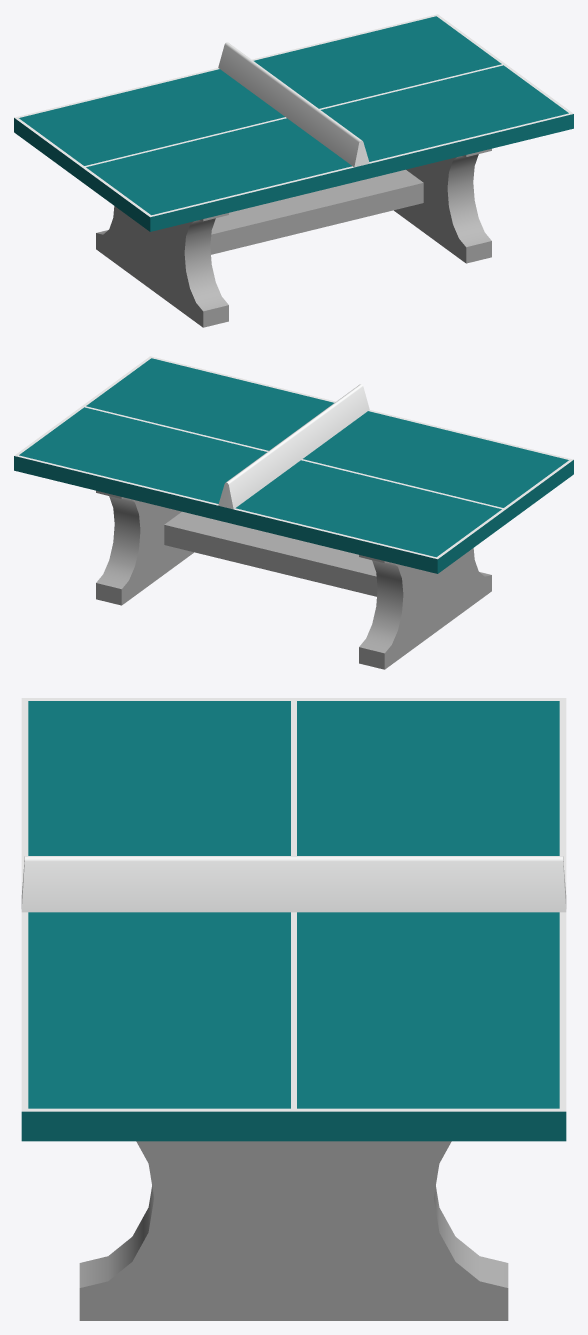
Rendered from 7f78bafc-0549-483e-8caa-5acf76d795af.glb.
3 views of the same model, one above another, from view 1: azimuth 30°, elevation 25°; view 2: azimuth 150°, elevation 25°; view 3: azimuth 270°, elevation 25° (orthographic). The views are drawn at different scales.
Parts seen in each view (by area): view 1: PingPongTable; view 2: PingPongTable; view 3: PingPongTable.
Part boxes in pixels (x1,y1,x2,y2): PingPongTable: (14,14,573,327); PingPongTable: (14,356,573,669); PingPongTable: (21,698,566,1320).
Size of what is drawn, in the model's own units: 2.74 by 1 by 1.52.
Materials: 1 (1 with a texture image).
